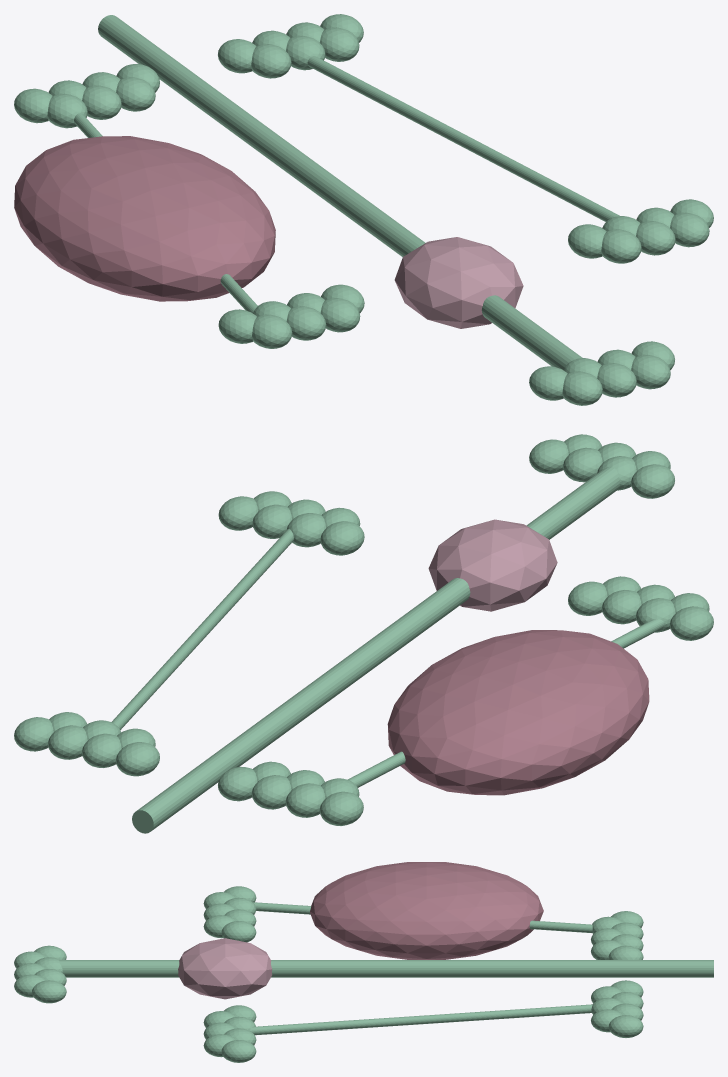
Rendered from lymphatic-g3-high.glb.
The picture shows the model from 3 angles, top to bottom: view 1: azimuth 30°, elevation 25°; view 2: azimuth 150°, elevation 25°; view 3: azimuth 270°, elevation 25°; orthographic projection. The views are drawn at different scales.
Visible parts, largest first — view 1: spleen, thoracic_duct_proxy, thymus_lymph_proxy, right_lymph_chain_proxy, inguinal_right_node_2, cervical_node_2, axillary_right_node_2, axillary_left_node_2, cervical_node_4, cervical_node_6, axillary_right_node_4, axillary_left_node_4 (+18 smaller); view 2: spleen, thoracic_duct_proxy, thymus_lymph_proxy, right_lymph_chain_proxy, left_lymph_chain_proxy, inguinal_left_node_1, inguinal_right_node_1, axillary_left_node_1, axillary_right_node_1, cervical_node_1, axillary_left_node_7, axillary_right_node_7 (+13 smaller); view 3: spleen, thoracic_duct_proxy, thymus_lymph_proxy, right_lymph_chain_proxy, left_lymph_chain_proxy, cervical_node_7, inguinal_right_node_7, axillary_right_node_7, axillary_left_node_7, cervical_node_6, axillary_right_node_6, inguinal_right_node_6 (+3 smaller).
Part boxes in pixels (<box>): spleen: <box>14,136,275,301</box>; thoracic_duct_proxy: <box>98,15,582,369</box>; thymus_lymph_proxy: <box>394,237,523,328</box>; right_lymph_chain_proxy: <box>307,56,619,221</box>; inguinal_right_node_2: <box>251,44,291,78</box>; cervical_node_2: <box>562,371,602,405</box>; axillary_right_node_2: <box>601,229,641,263</box>; axillary_left_node_2: <box>252,314,292,348</box>; cervical_node_4: <box>597,363,636,397</box>; cervical_node_6: <box>631,354,670,389</box>; axillary_right_node_4: <box>636,221,675,255</box>; axillary_left_node_4: <box>286,306,326,340</box>; spleen: <box>387,630,649,795</box>; thoracic_duct_proxy: <box>132,467,619,833</box>; thymus_lymph_proxy: <box>428,519,557,611</box>; right_lymph_chain_proxy: <box>112,529,293,730</box>; left_lymph_chain_proxy: <box>348,619,664,787</box>; inguinal_left_node_1: <box>319,791,363,825</box>; inguinal_right_node_1: <box>116,742,159,776</box>; axillary_left_node_1: <box>670,606,713,640</box>; axillary_right_node_1: <box>320,521,364,555</box>; cervical_node_1: <box>631,464,674,498</box>; axillary_left_node_7: <box>568,581,607,615</box>; axillary_right_node_7: <box>218,496,258,530</box>; spleen: <box>310,862,543,959</box>; thoracic_duct_proxy: <box>59,960,713,977</box>; thymus_lymph_proxy: <box>178,938,272,999</box>; right_lymph_chain_proxy: <box>250,1004,592,1035</box>; left_lymph_chain_proxy: <box>253,902,592,933</box>; cervical_node_7: <box>31,980,66,1003</box>; inguinal_right_node_7: <box>608,1015,643,1037</box>; axillary_right_node_7: <box>221,1040,256,1062</box>; axillary_left_node_7: <box>221,921,256,942</box>; cervical_node_6: <box>14,974,45,997</box>; axillary_right_node_6: <box>203,1034,235,1057</box>; inguinal_right_node_6: <box>591,1009,622,1032</box>.
Bounding box in the file's own units: 2.19 × 0.4 × 3.58.
